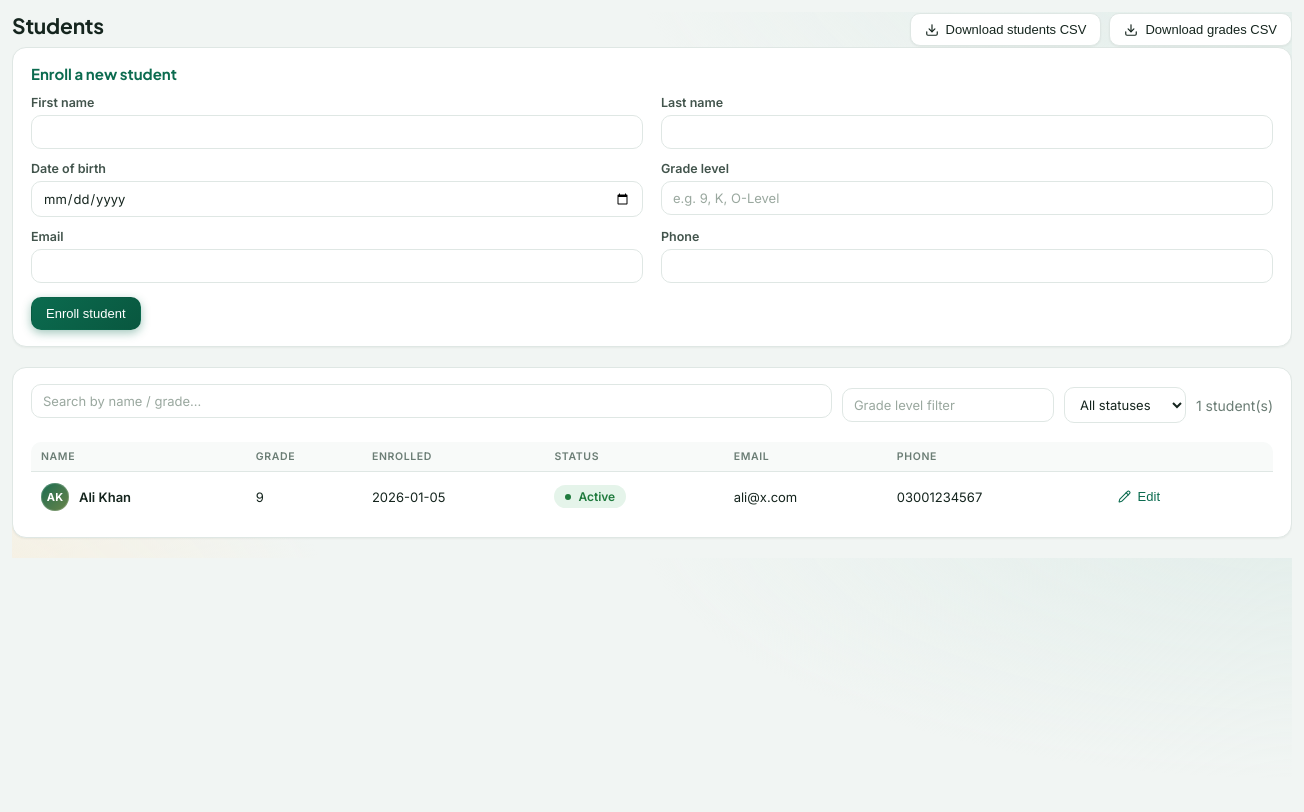
it: Students page › cancels an edit and restores the enroll form
Expected: the text "Ali Khan" is shown, [41, 482, 131, 510]
Click the button "Edit": (1139, 496) [1103, 480, 1175, 513]
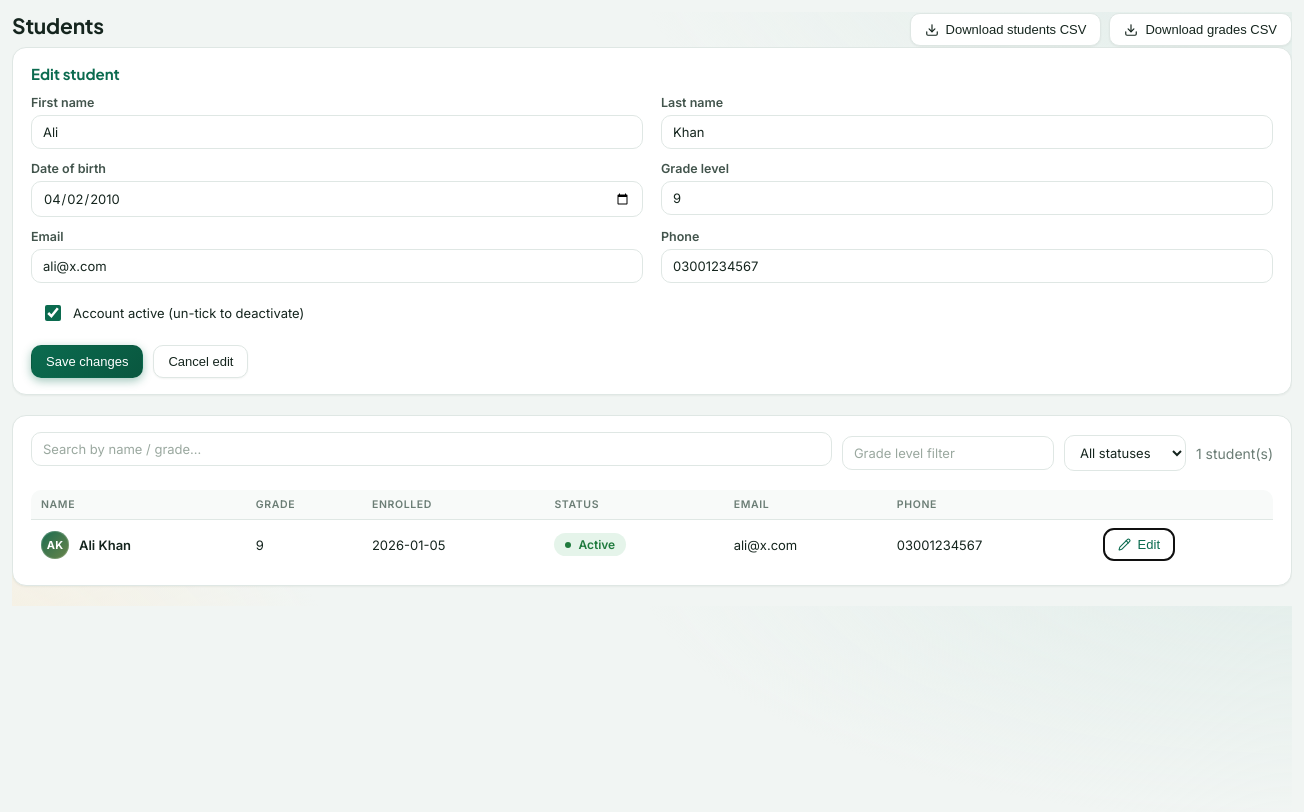
Expected: the heading "Edit student" is shown, [31, 64, 120, 83]
Click the button "Cancel edit": (201, 362) [153, 345, 248, 378]
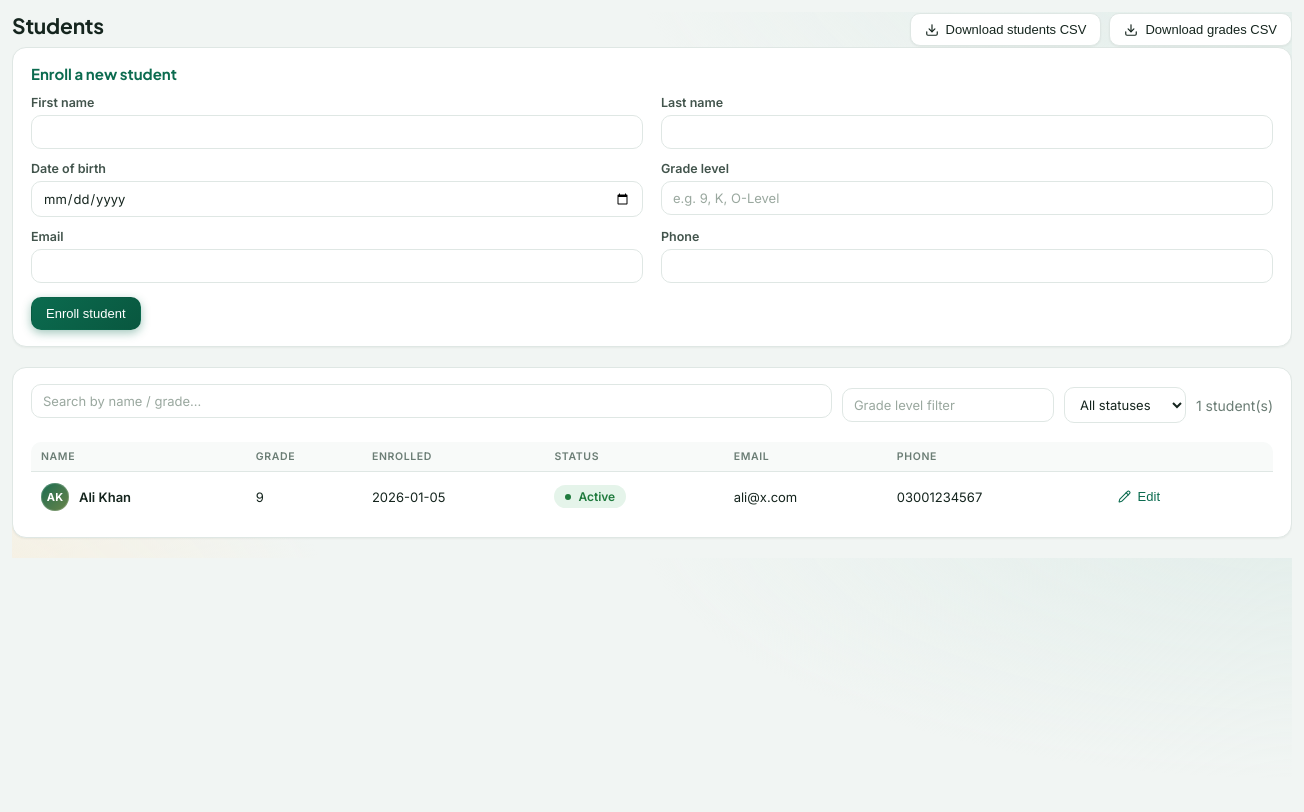
Expected: the heading "Enroll a new student" is shown, [31, 64, 177, 83]
